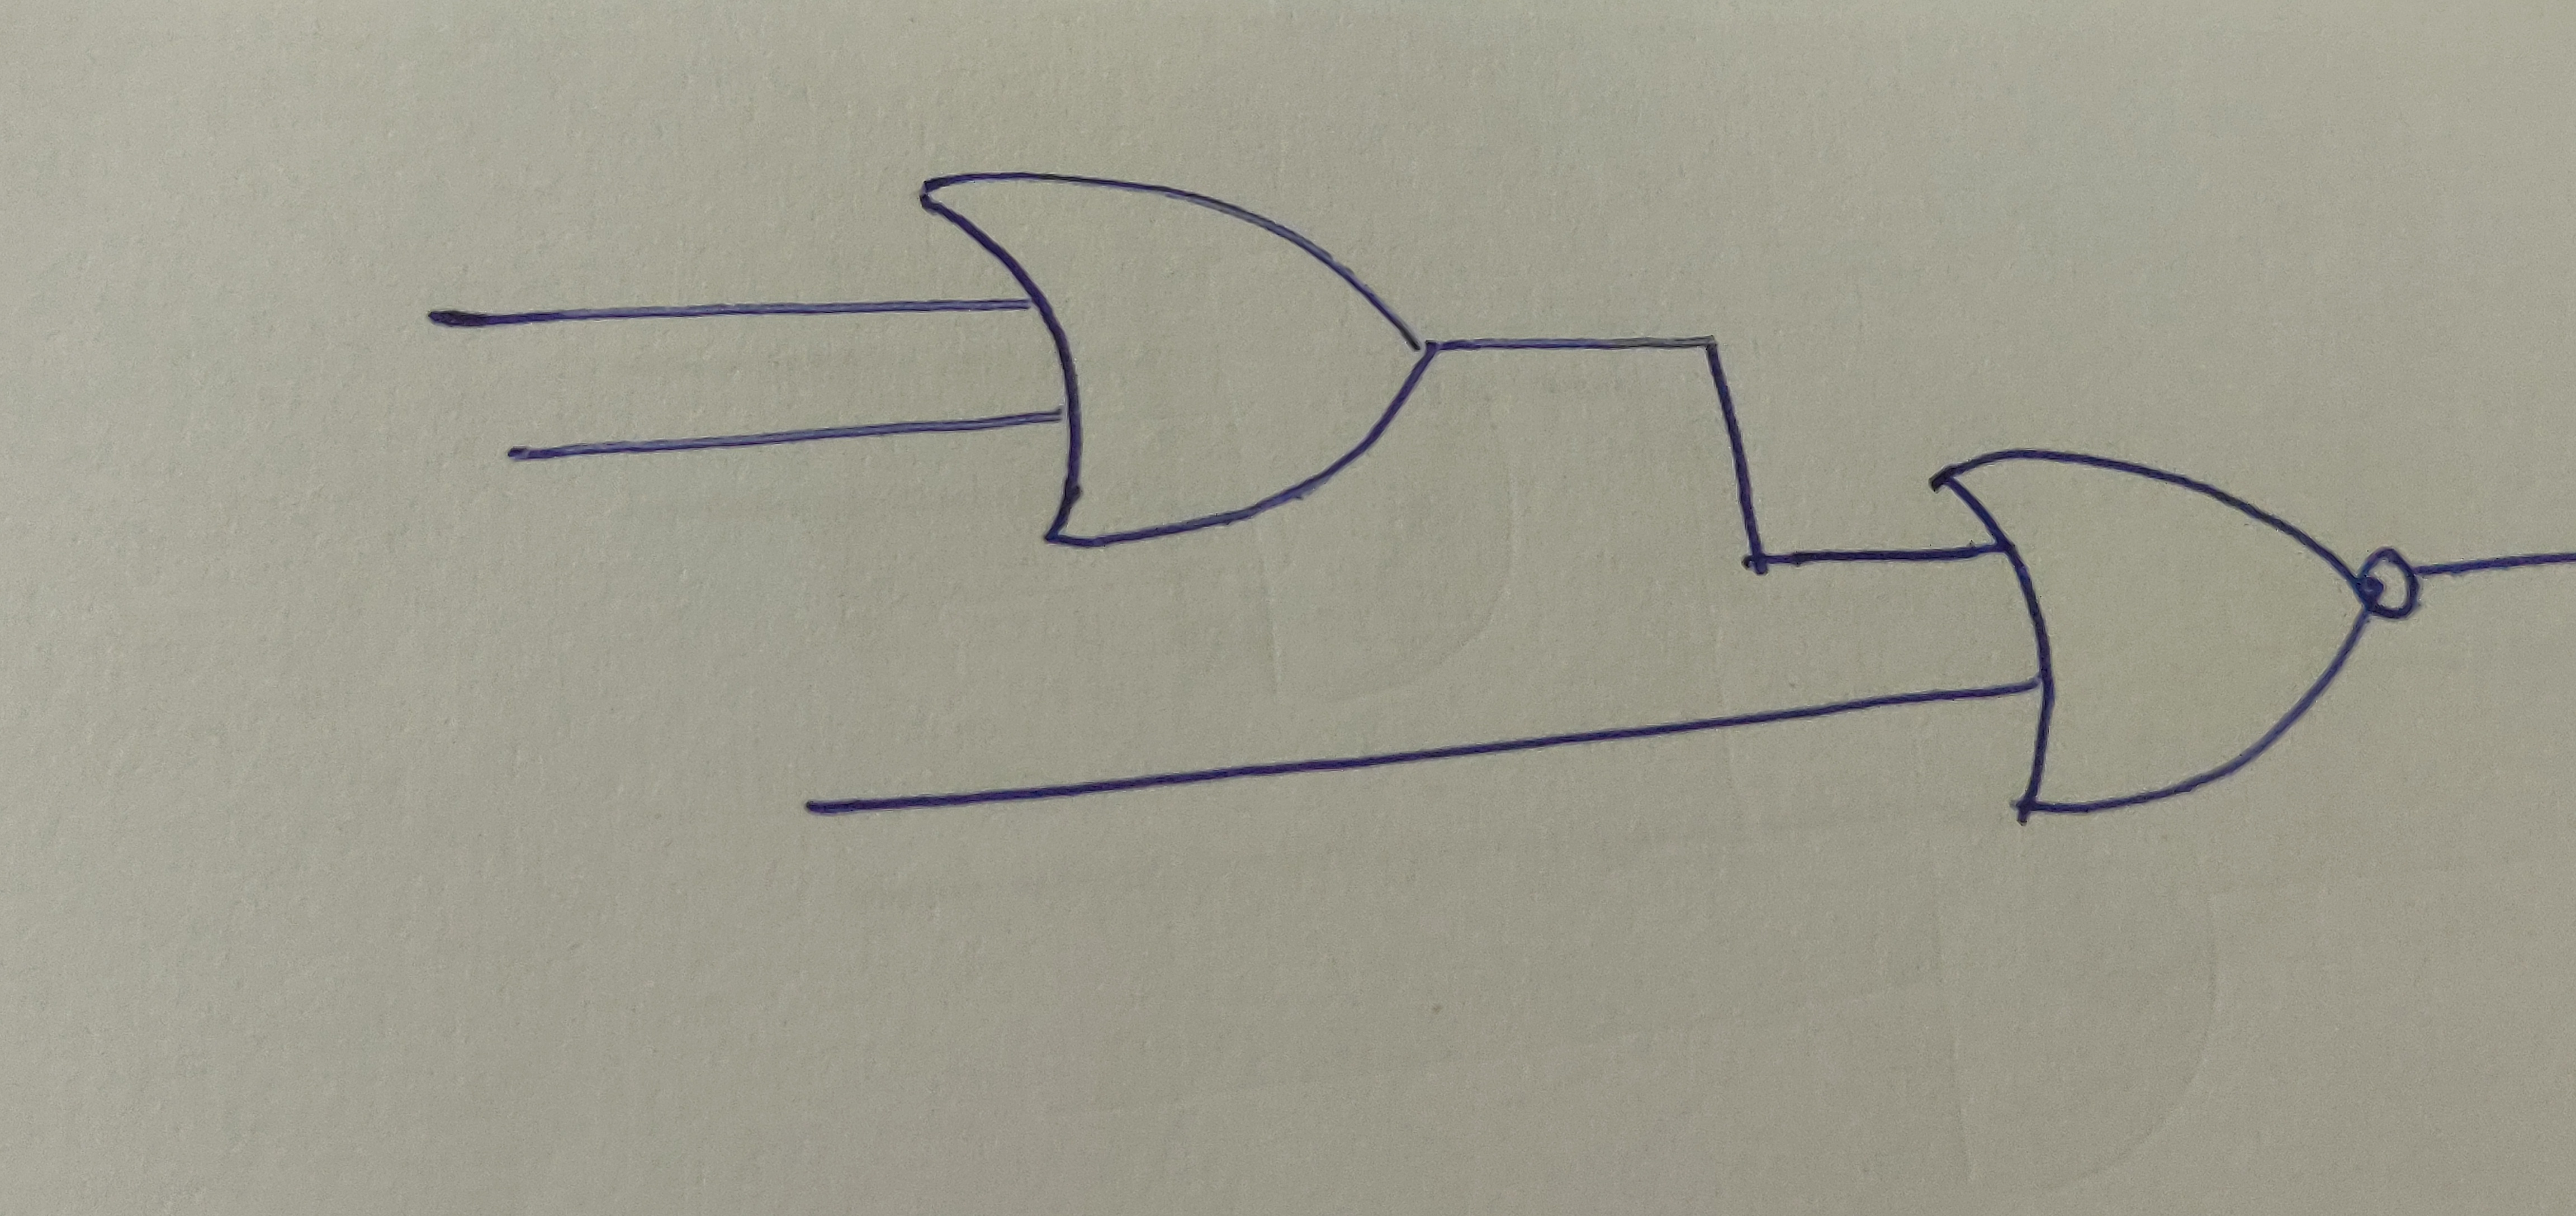not: (2367, 554, 2423, 618)
or: (904, 166, 1433, 550), (1924, 450, 2371, 813)
